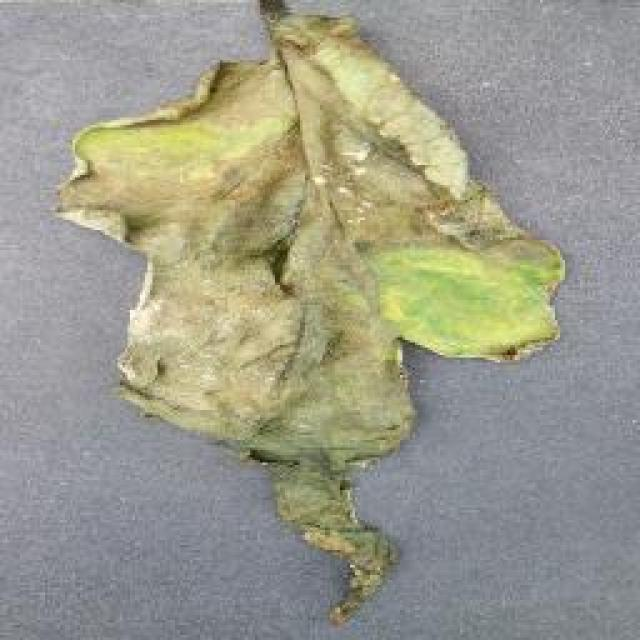leaf blight: (46, 6, 566, 623)
